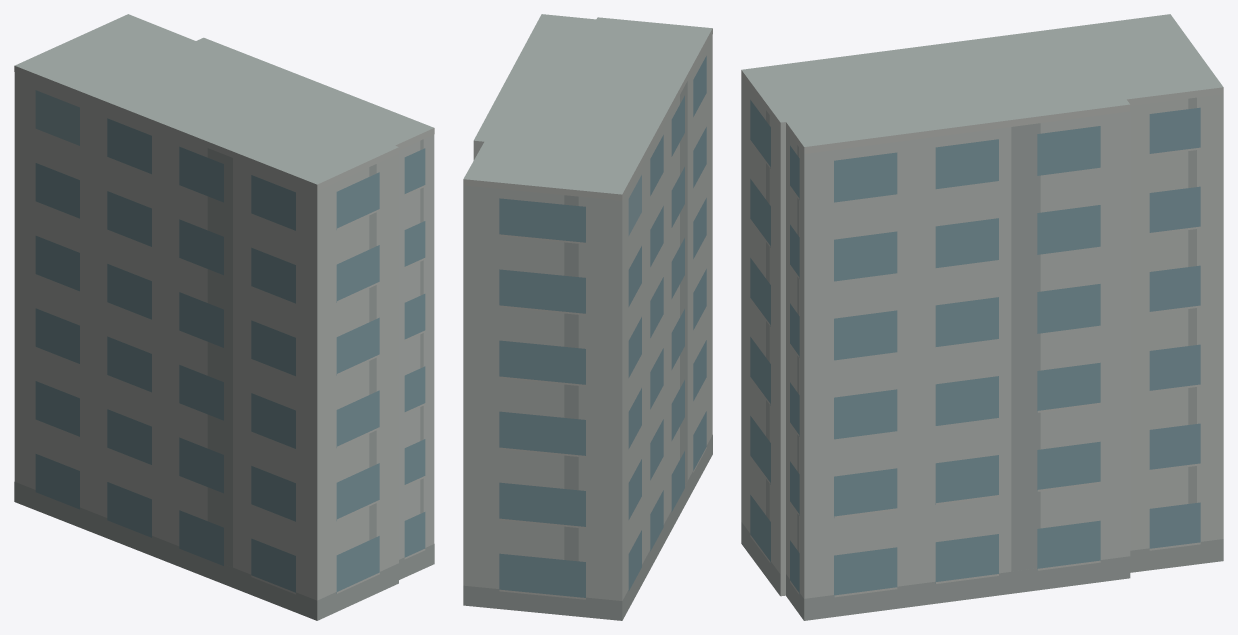
Rendered from survey-upis-32978261.glb.
3 renders of one model, left to right at view 1: azimuth 30°, elevation 25°; view 2: azimuth 150°, elevation 25°; view 3: azimuth 270°, elevation 25°, orthographic. The views are drawn at different scales.
Parts seen in each view (by area): view 1: survey-upis-32978261.tmp; view 2: survey-upis-32978261.tmp; view 3: survey-upis-32978261.tmp.
Part boxes in pixels (x1,y1,x2,y2): survey-upis-32978261.tmp: [14, 14, 434, 620]; survey-upis-32978261.tmp: [463, 14, 712, 620]; survey-upis-32978261.tmp: [741, 14, 1223, 620].
Bounding box in the file's own units: 10.01 × 16.6 × 15.33.
